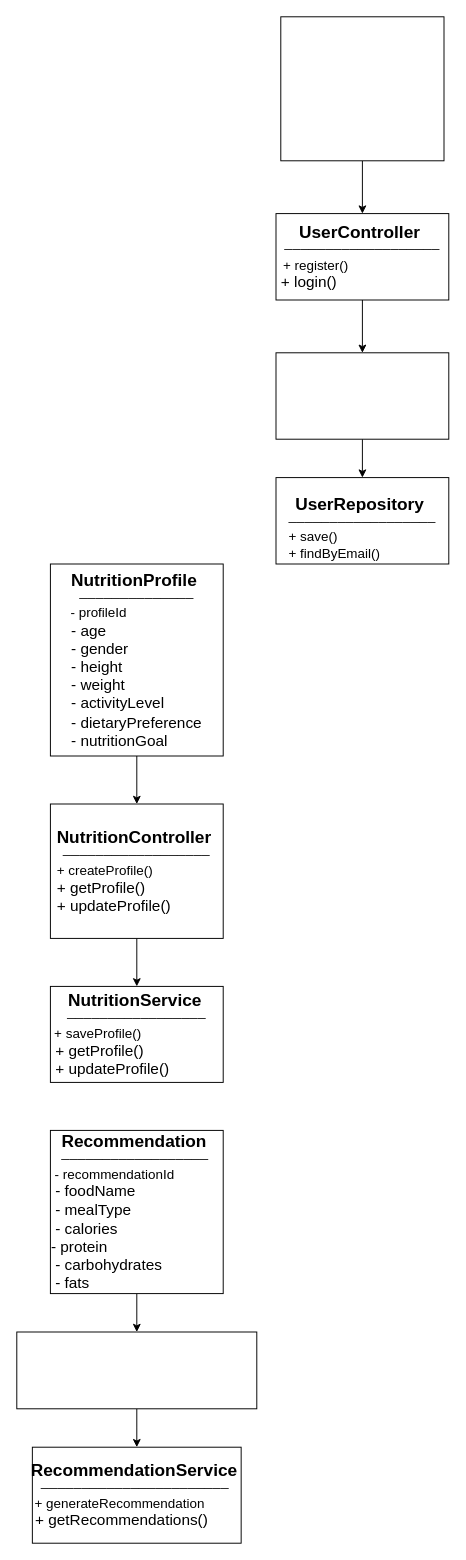
The diagram is 466 pixels wide and 1560 high, and some of its shapes have lost their labels. The shapes that lost their labels are listed below. From the top down, each one's box as (x1, y1, x2, y2) in pixels, then its label:
(280, 16, 444, 161): User ────────────────── - -userId - name - email - password
(275, 352, 449, 439): UserService ─────────────────── + registerUser() + authenticate()
(16, 1331, 257, 1409): RecommendationController ─────────────────────── + getRecommendations()
